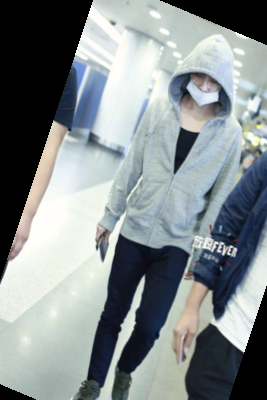mask_weared_incorrect: (177, 26, 237, 114)
